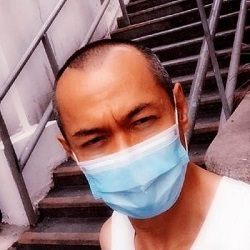mask: (69, 120, 192, 221)
